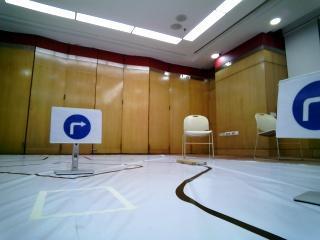right: (54, 107, 98, 145)
